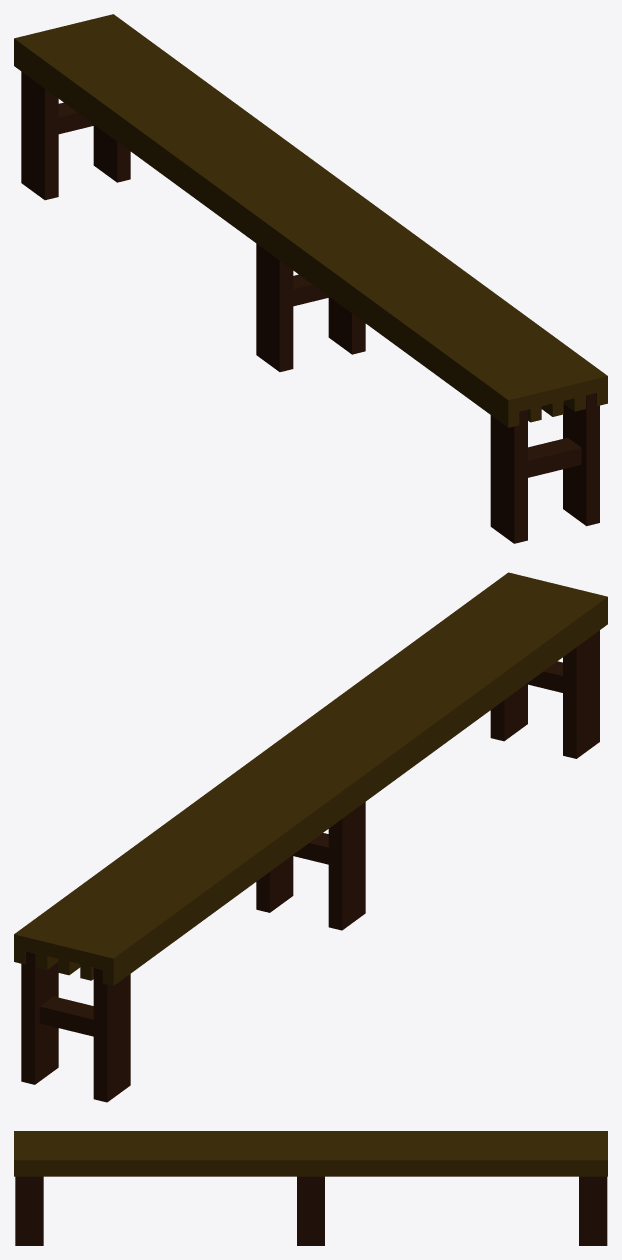
Rendered from long_chair.fbx.
The picture shows the model from 3 angles, top to bottom: view 1: azimuth 30°, elevation 25°; view 2: azimuth 150°, elevation 25°; view 3: azimuth 270°, elevation 25°; orthographic projection. The views are drawn at different scales.
Visible parts, largest first — view 1: pCube10; view 2: pCube10; view 3: pCube10.
Part boxes in pixels (x1,y1,x2,y2): pCube10: (14, 14, 607, 543); pCube10: (14, 572, 607, 1102); pCube10: (14, 1131, 607, 1245).
Bounding box in the file's own units: 1.36 × 1.91 × 11.71.
